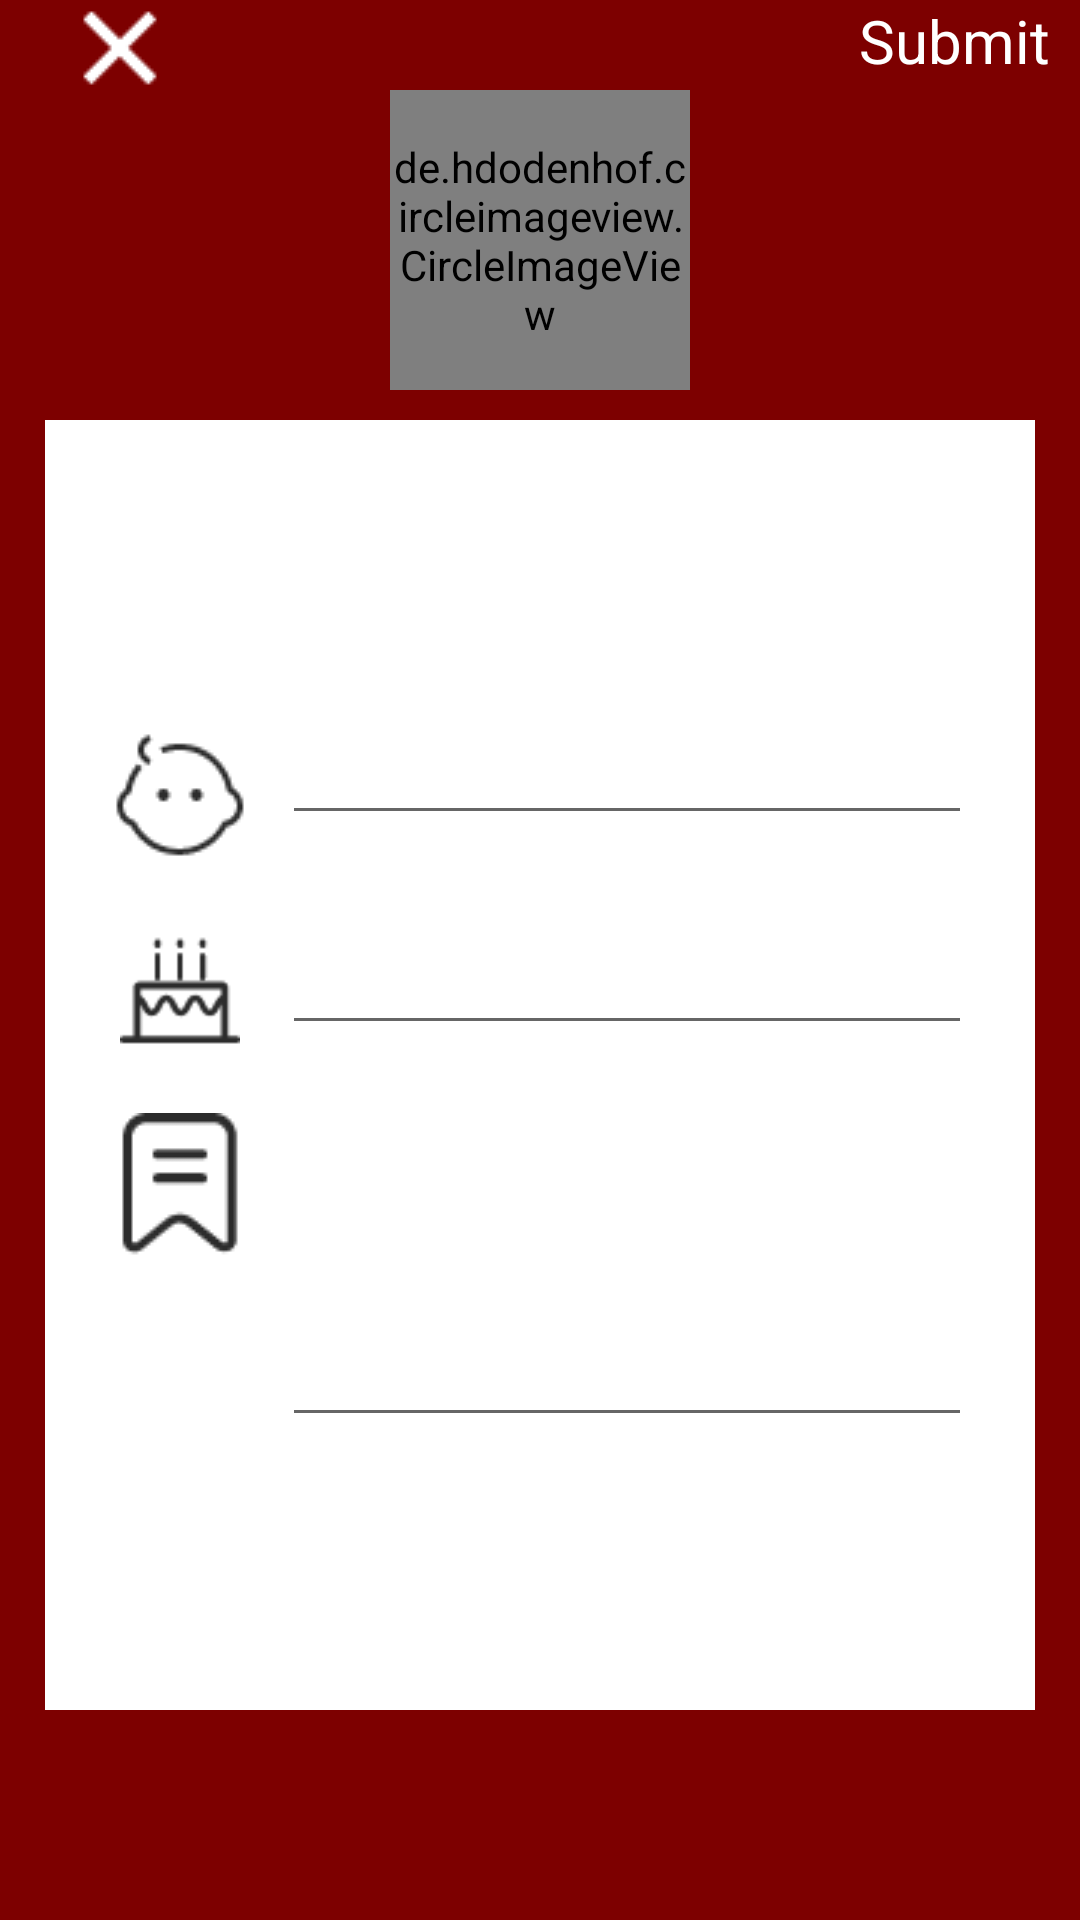

Where icons sit on this 1080px×1920px app screen, as bbox=[x1, y1, x2, y2]:
birth: bbox=[120, 938, 240, 1044]
cancel: bbox=[83, 11, 157, 85]
info: bbox=[122, 1113, 238, 1254]
nick: bbox=[116, 734, 244, 856]
